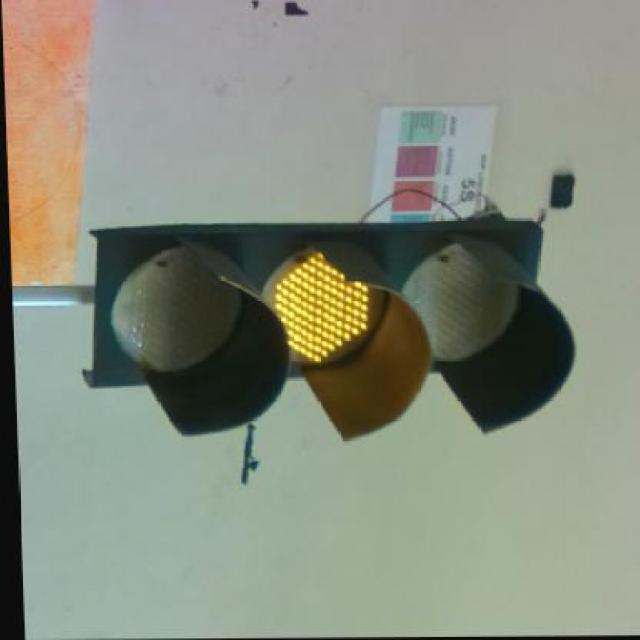yellow_light: (83, 216, 573, 447)
